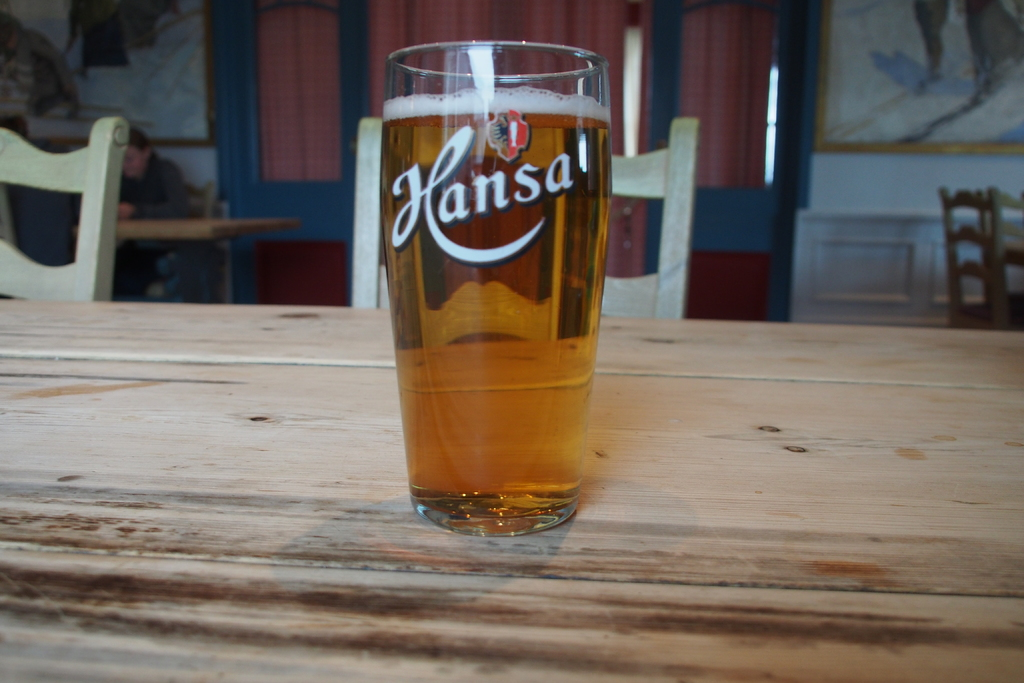Beer: (375, 50, 624, 540)
